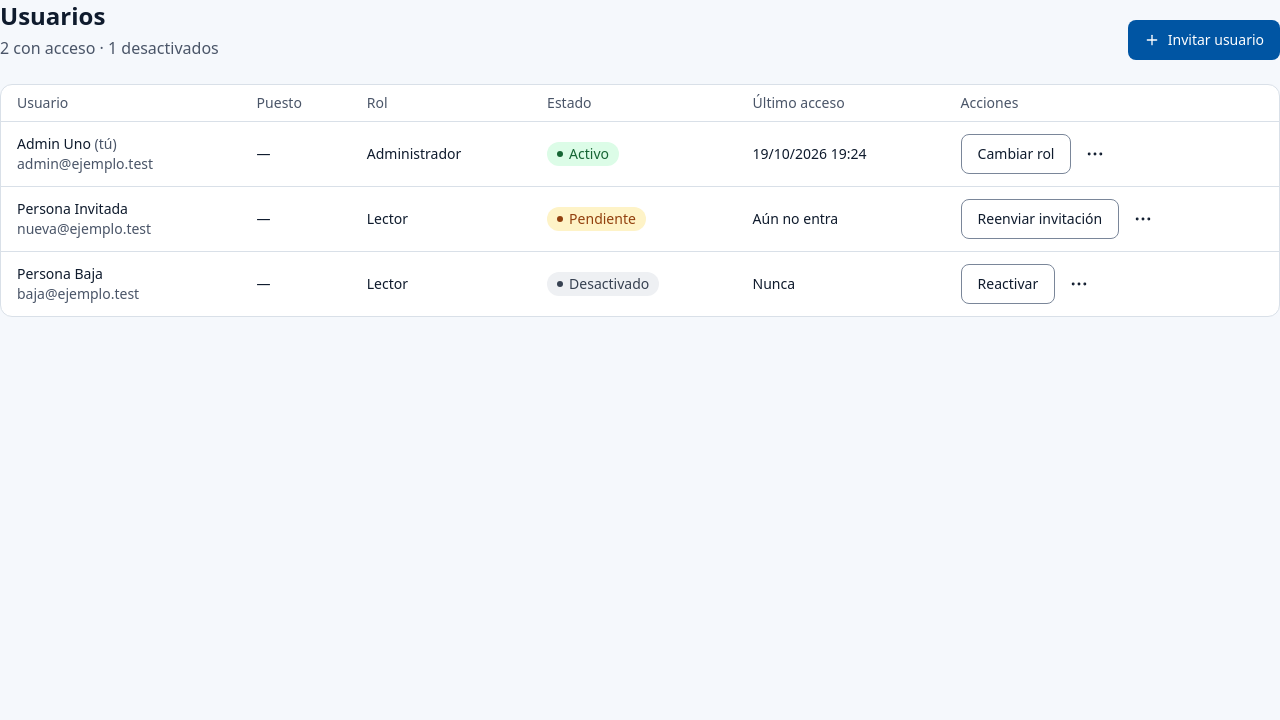
P-60 · Usuarios › edita el nombre y el puesto de un usuario
This screenshot has width=1280, height=720.
Click the button named "Más acciones para Admin Uno" at (1096, 154), box [1076,134,1116,174]
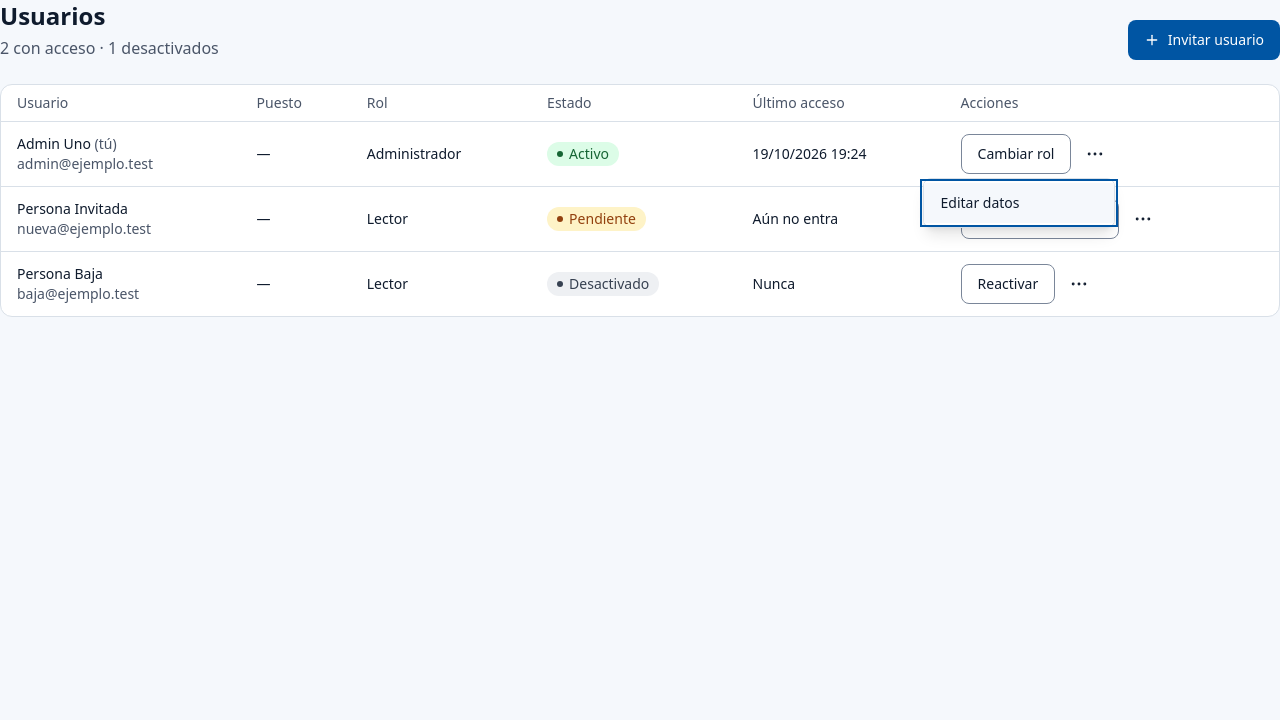
Click the menu item "Editar datos" at (1020, 203), box [924,183,1114,223]
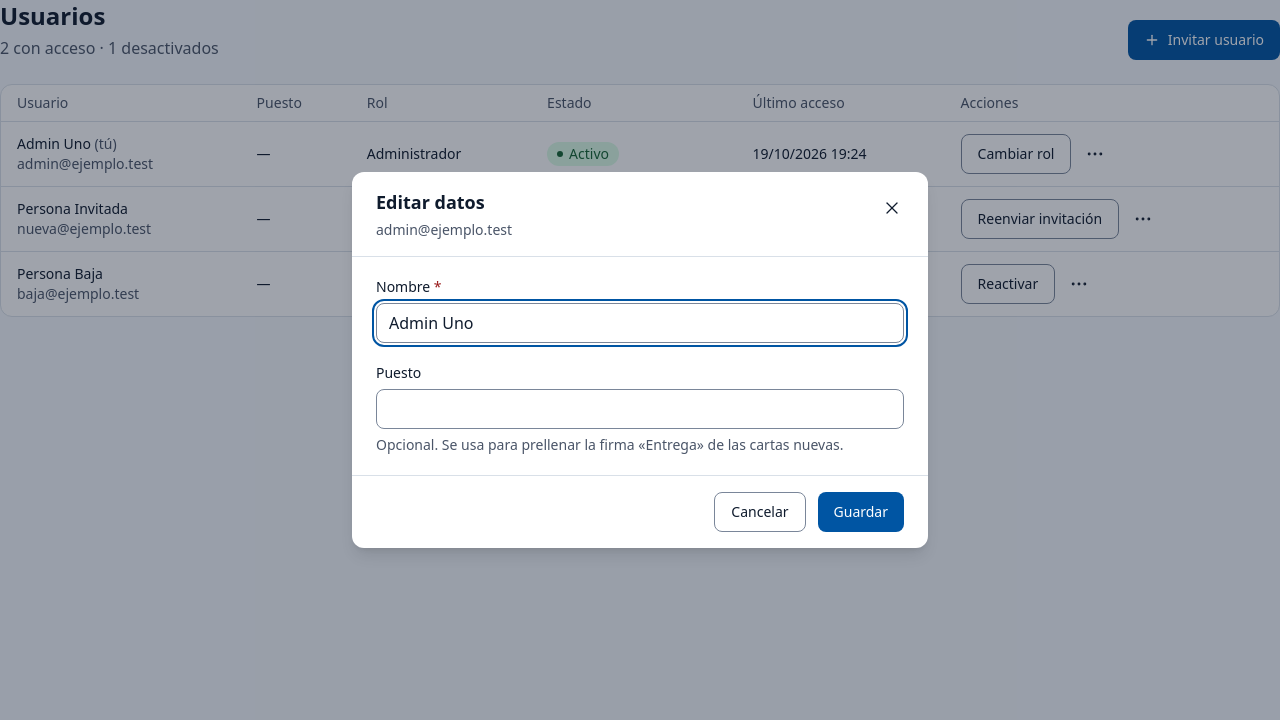
Clear the field labelled "Nombre *" at (640, 323), box [376,303,904,343]
Click the button "Guardar" at (861, 512), box [818,492,904,532]
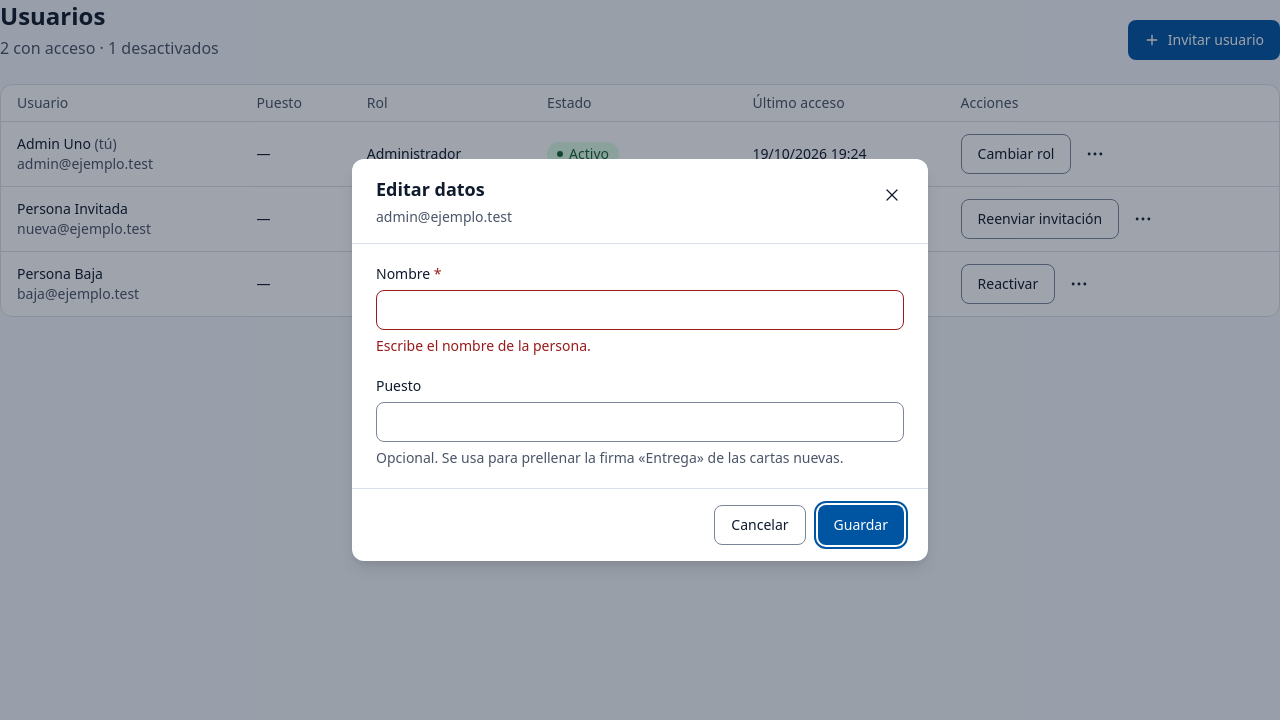
Type "Admin Uno Pérez" into the field labelled "Nombre *" at (640, 310), box [376,290,904,330]
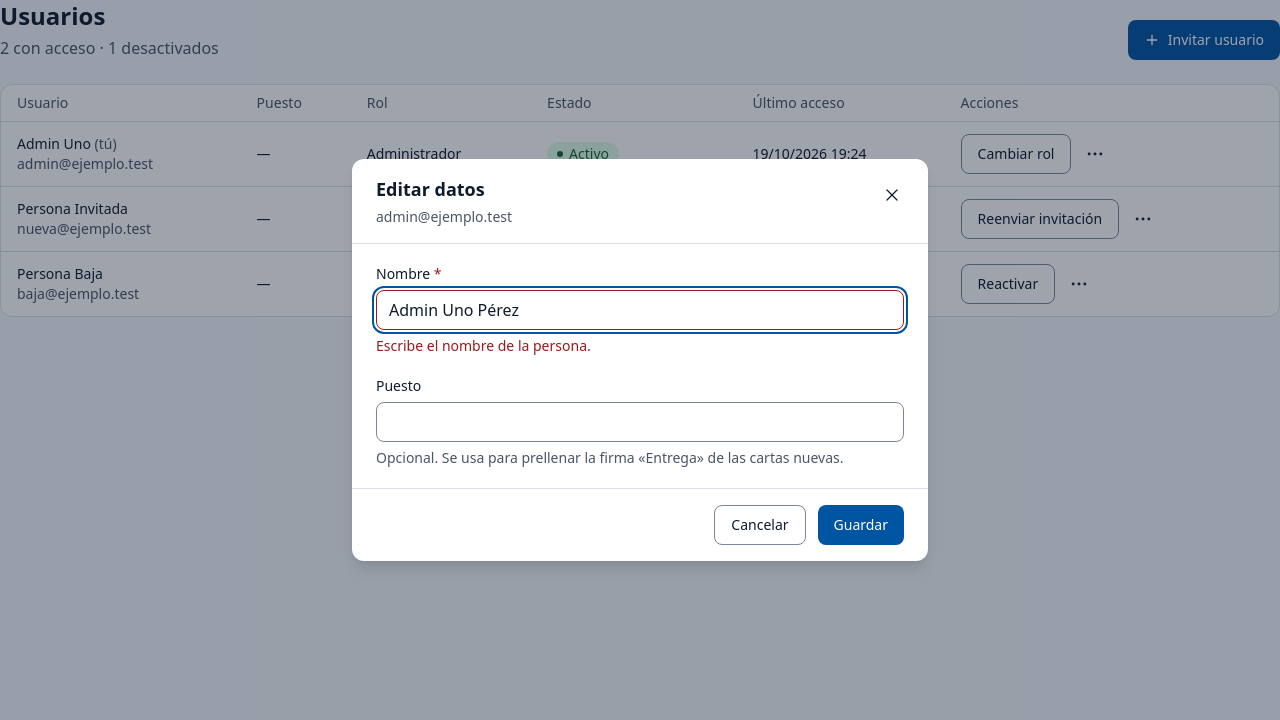
Type "Jefe de Sistemas" into the field labelled "Puesto" at (640, 422), box [376,402,904,442]
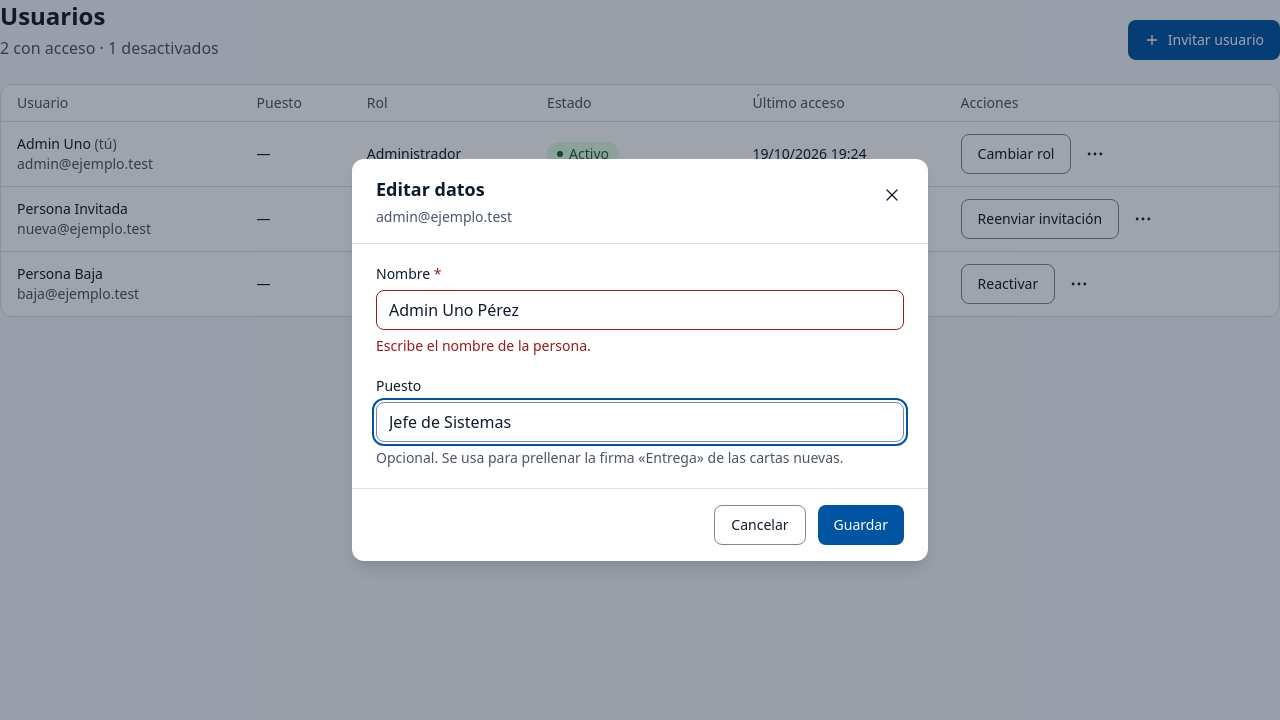
Click the button "Guardar" at (861, 525), box [818,505,904,545]
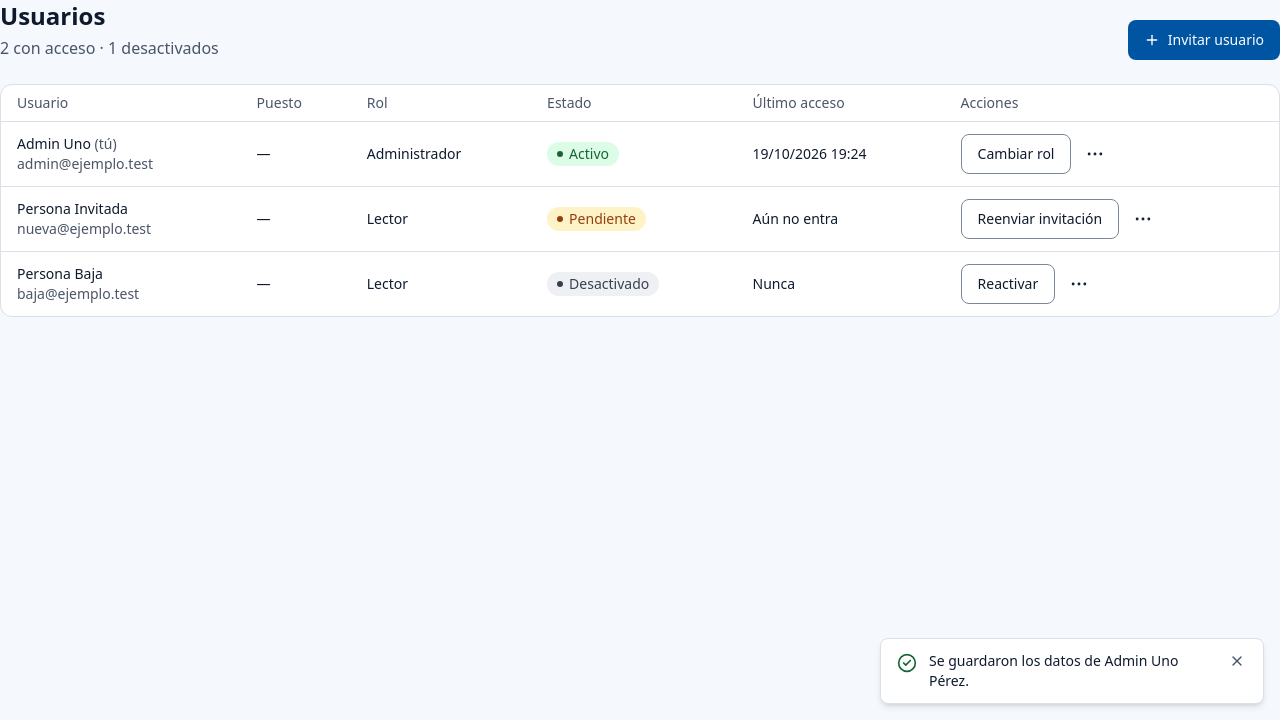
expect the dialog is gone: met
